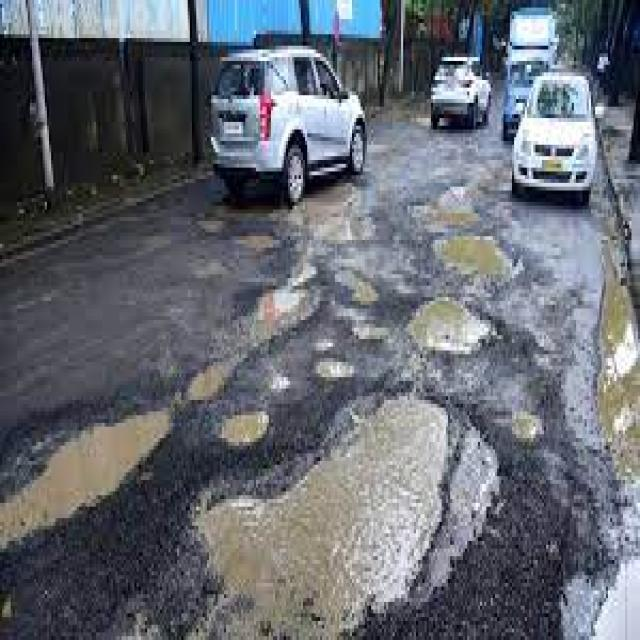pothole: (193, 388, 502, 640), (0, 406, 176, 546), (590, 237, 640, 640), (221, 180, 384, 250), (407, 294, 501, 359), (240, 284, 327, 347), (436, 234, 524, 287), (184, 352, 249, 405), (405, 188, 476, 233), (214, 410, 270, 448), (332, 266, 379, 304), (507, 415, 542, 447), (310, 357, 350, 384), (238, 232, 285, 253), (344, 322, 387, 342), (196, 220, 220, 238)
